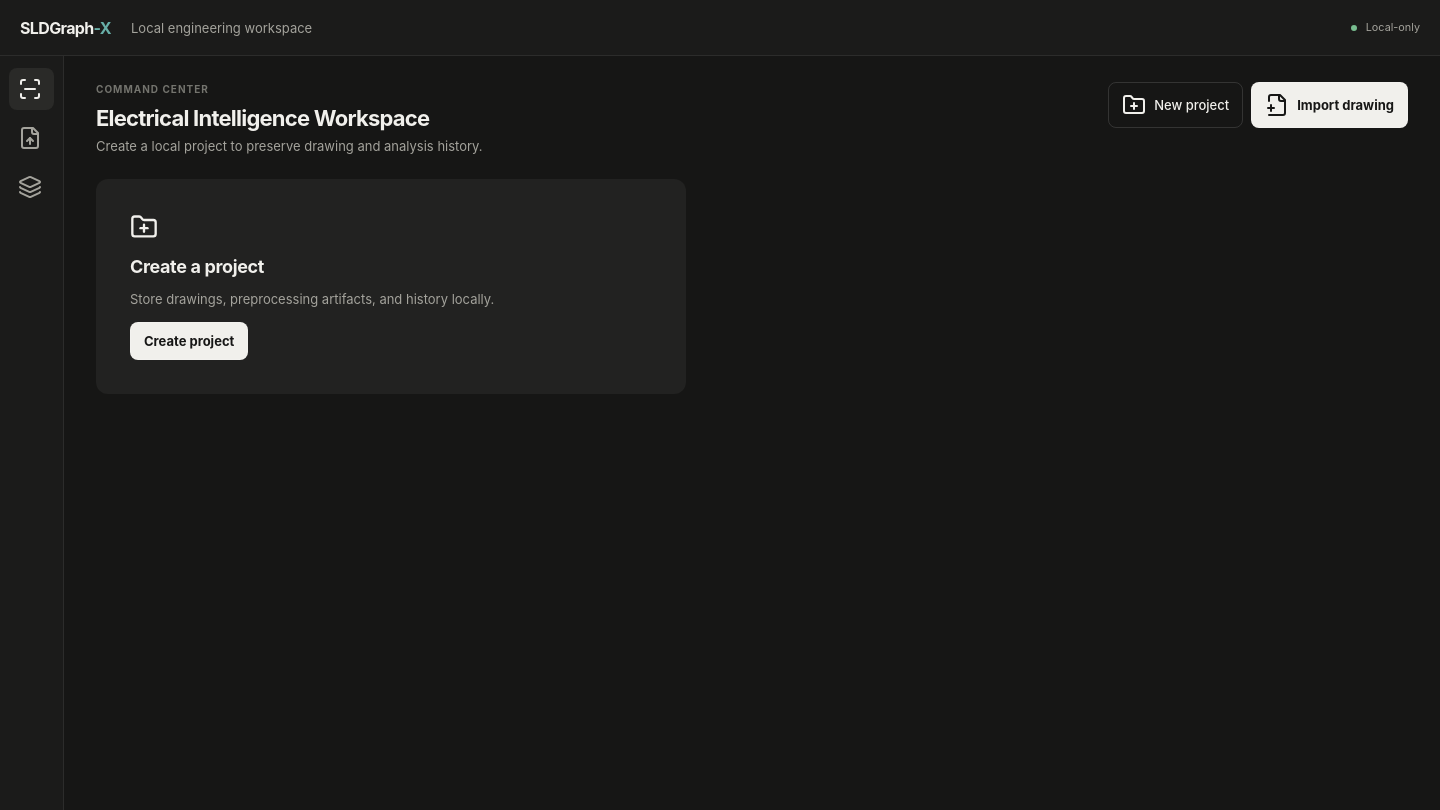
Test case: command center › offers real local project creation
Expected: the heading "Create a project" is shown, [130,256,264,277]
Click the button "Create project": coordinates (189, 341) [130,322,248,360]
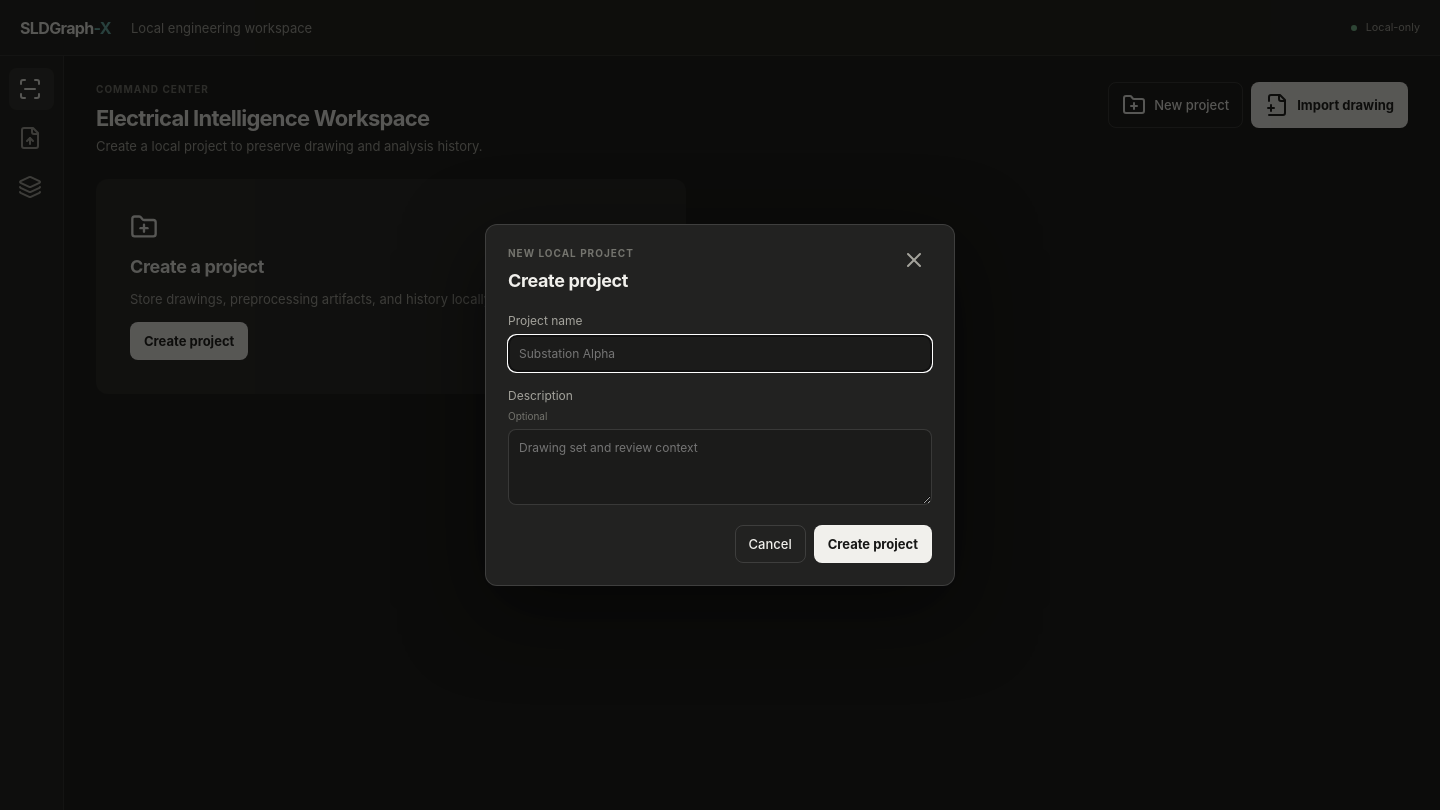
Expected: the field labelled "Project name" is shown, [508,335,932,372]
